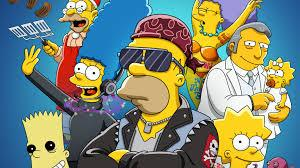Bart: (13, 104, 83, 168)
Homer: (116, 10, 199, 134)
Lisa: (207, 104, 286, 168)
Maggie: (261, 57, 299, 105)
Marge: (70, 1, 141, 110)
